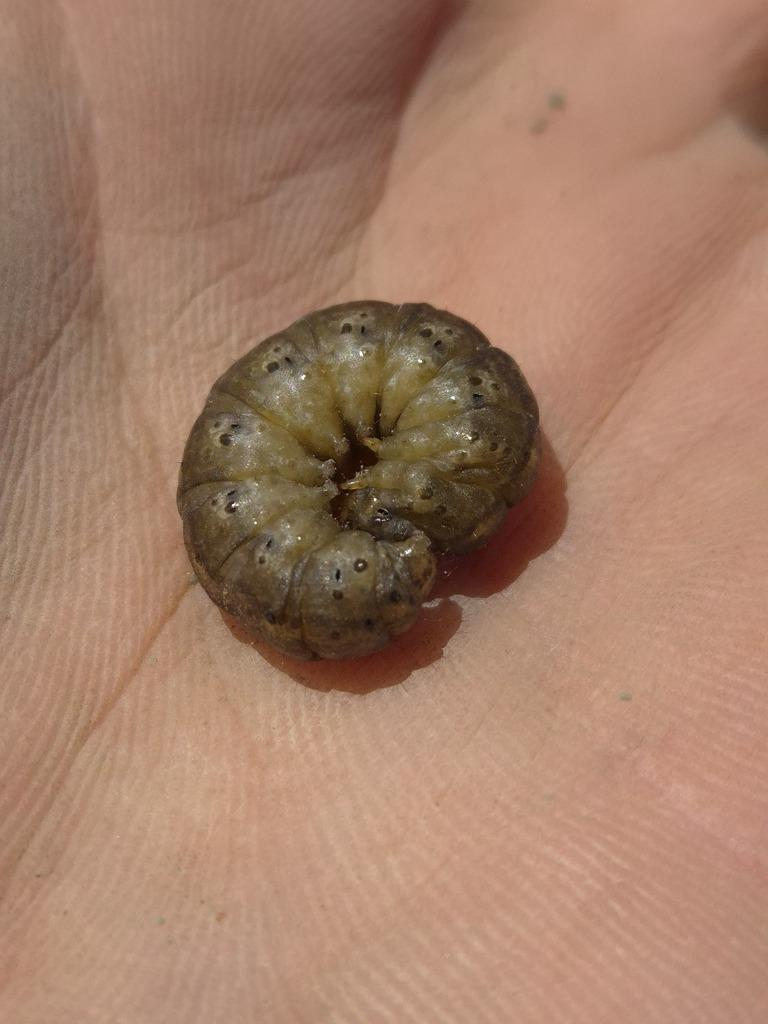caterpillars: (111, 229, 601, 754)
